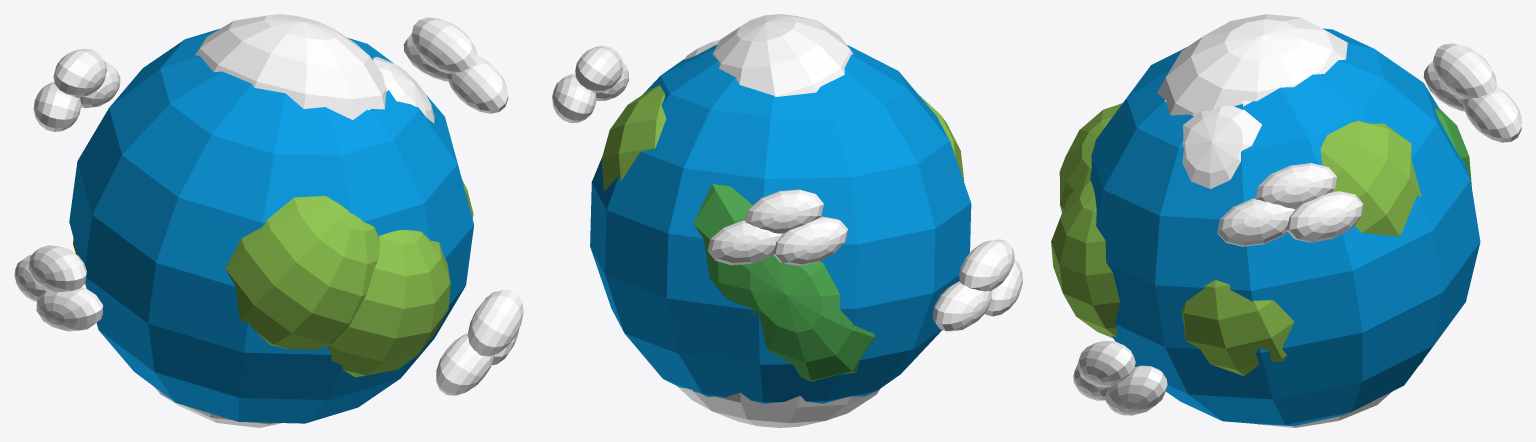
3 renders of one model, left to right at view 1: azimuth 30°, elevation 25°; view 2: azimuth 150°, elevation 25°; view 3: azimuth 270°, elevation 25°, orthographic. The views are drawn at different scales.
Parts seen in each view (by area): view 1: group_838082178; view 2: group_838082178; view 3: group_838082178.
Boxes of the visible parts, left/top/right/bottom form: group_838082178: left=14, top=14, right=523, bottom=427; group_838082178: left=552, top=14, right=1022, bottom=427; group_838082178: left=1051, top=14, right=1521, bottom=427.
Size of the model in its own units: 13.46 by 11.12 by 12.05.
